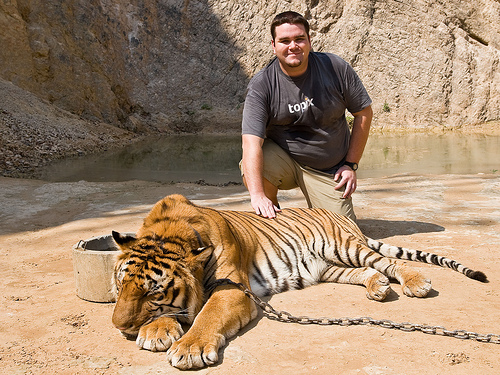Tigre: (109, 189, 489, 353)
